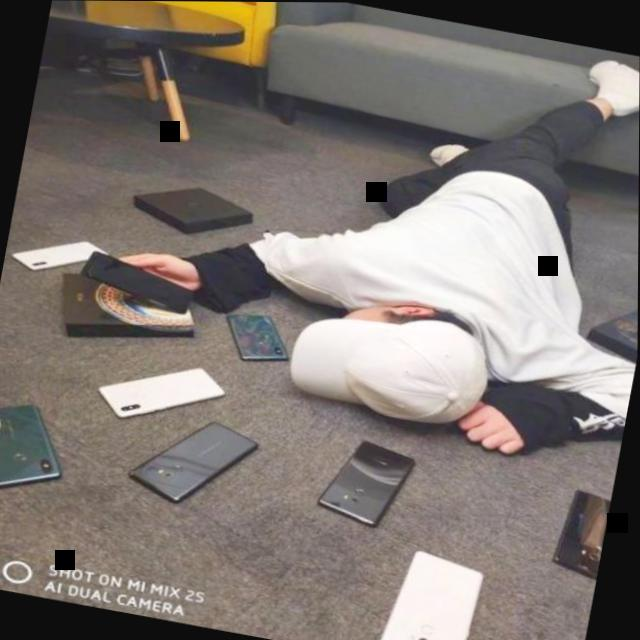Fall-Detected: (61, 0, 640, 511)
